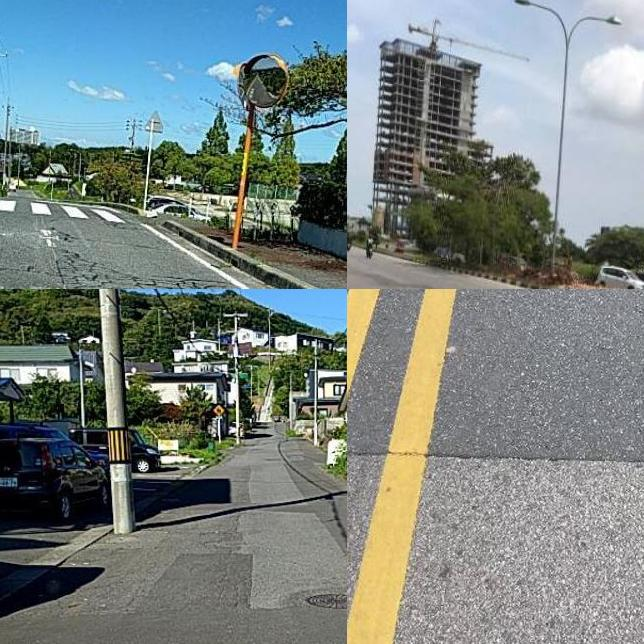Sambungan: (347, 289, 644, 472), (0, 549, 347, 644)
